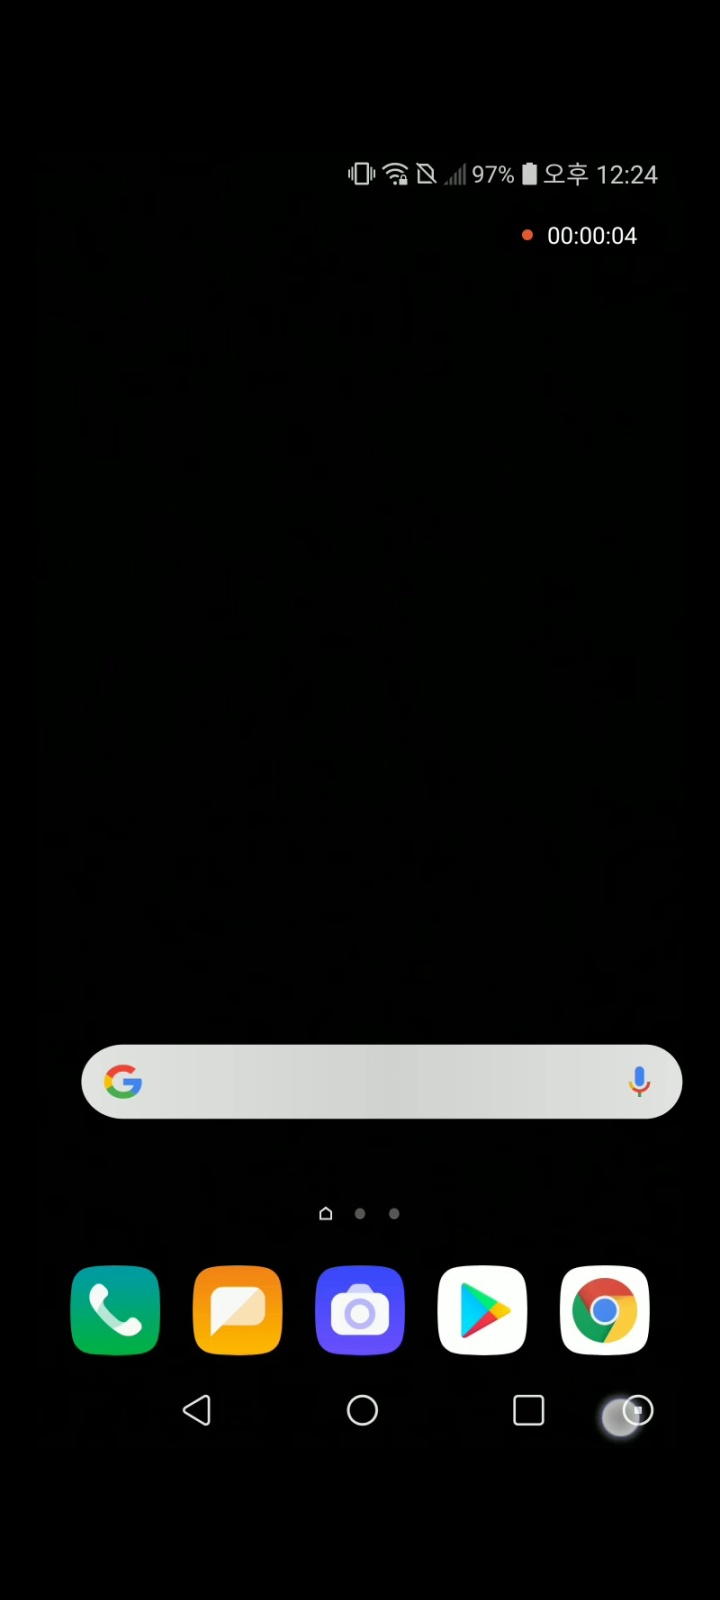Cursor: (599, 1396, 644, 1441)
